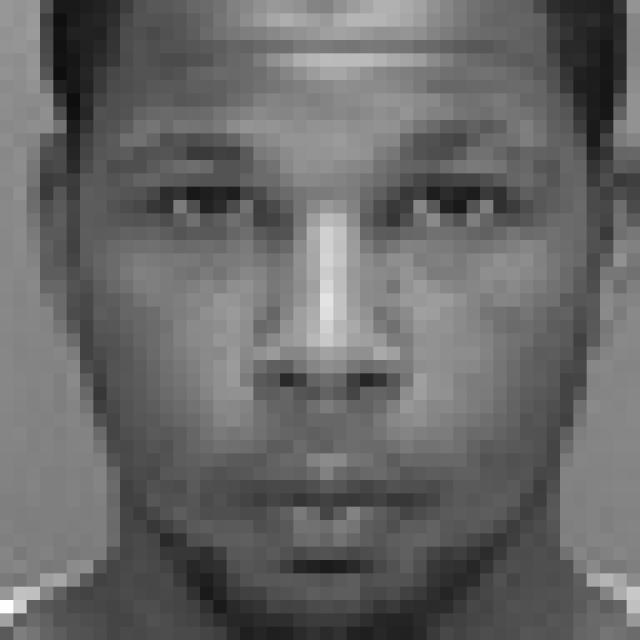neutral: (114, 114, 569, 568)
